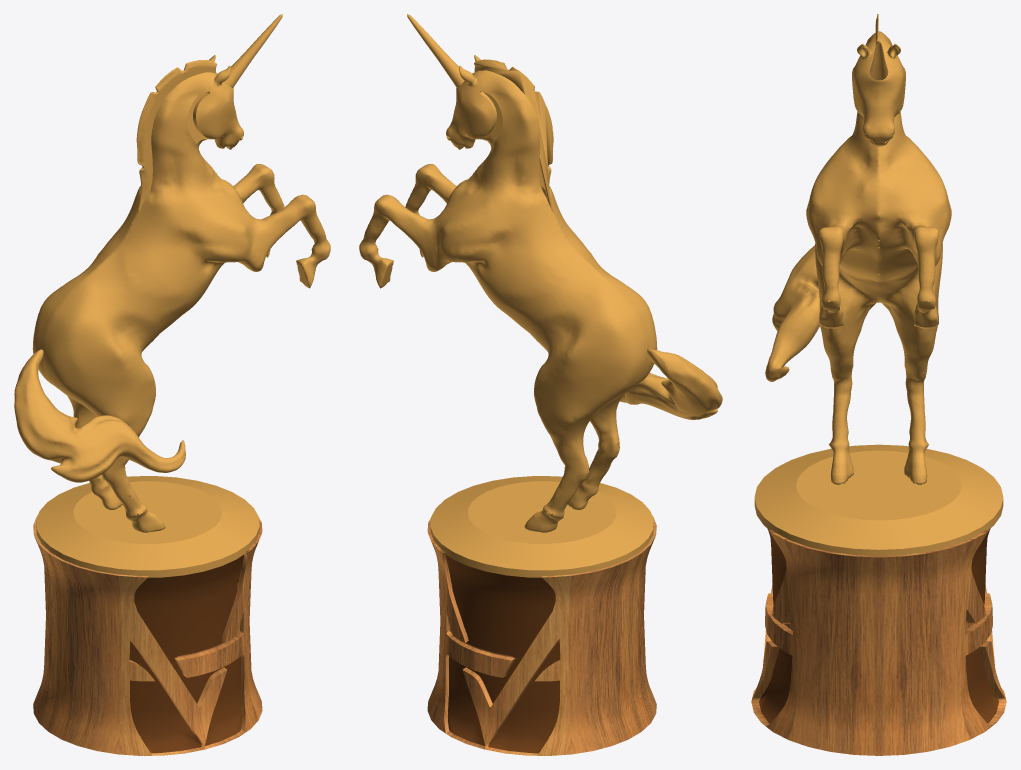
File: armaterial.glb
The picture shows the model from 3 angles, left to right: view 1: azimuth 30°, elevation 25°; view 2: azimuth 150°, elevation 25°; view 3: azimuth 270°, elevation 25°; orthographic projection. The views are drawn at different scales.
Parts seen in each view (by area): view 1: CRORTADO.001, mh.002, propuiesta.001, CRORTADO.005, CRORTADO.006, CRORTADO.002; view 2: CRORTADO.001, mh.002, propuiesta.001, CRORTADO.005, CRORTADO.006, CRORTADO.002; view 3: mh.002, CRORTADO.001, propuiesta.001, CRORTADO.005, CRORTADO.002.
Boxes of the visible parts, left/top/right/bottom form: CRORTADO.001: left=32, top=55, right=330, bottom=532; mh.002: left=33, top=515, right=262, bottom=755; propuiesta.001: left=36, top=476, right=259, bottom=577; CRORTADO.005: left=14, top=349, right=185, bottom=482; CRORTADO.006: left=136, top=60, right=217, bottom=213; CRORTADO.002: left=225, top=14, right=282, bottom=87; CRORTADO.001: left=359, top=55, right=657, bottom=532; mh.002: left=427, top=515, right=656, bottom=755; propuiesta.001: left=430, top=476, right=653, bottom=577; CRORTADO.005: left=620, top=349, right=722, bottom=419; CRORTADO.006: left=474, top=59, right=553, bottom=212; CRORTADO.002: left=407, top=14, right=464, bottom=87; mh.002: left=751, top=528, right=1006, bottom=755; CRORTADO.001: left=806, top=31, right=951, bottom=484; propuiesta.001: left=754, top=444, right=1003, bottom=555; CRORTADO.005: left=765, top=245, right=819, bottom=381; CRORTADO.002: left=869, top=40, right=888, bottom=80.
Size of the model in its own units: 0.1685 by 0.3398 by 0.1072.
Materials: 3 (1 with a texture image).
